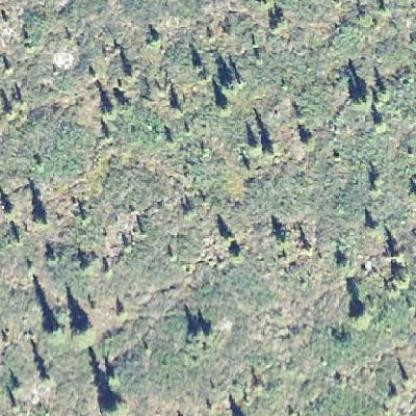tree-top: (68, 320, 94, 348), (348, 300, 372, 328), (102, 392, 128, 415), (184, 319, 212, 339), (350, 89, 374, 112), (212, 98, 235, 118), (43, 318, 63, 341), (32, 208, 53, 229), (101, 100, 119, 121), (244, 137, 262, 155), (299, 132, 315, 151), (263, 141, 277, 162), (365, 217, 382, 234)
